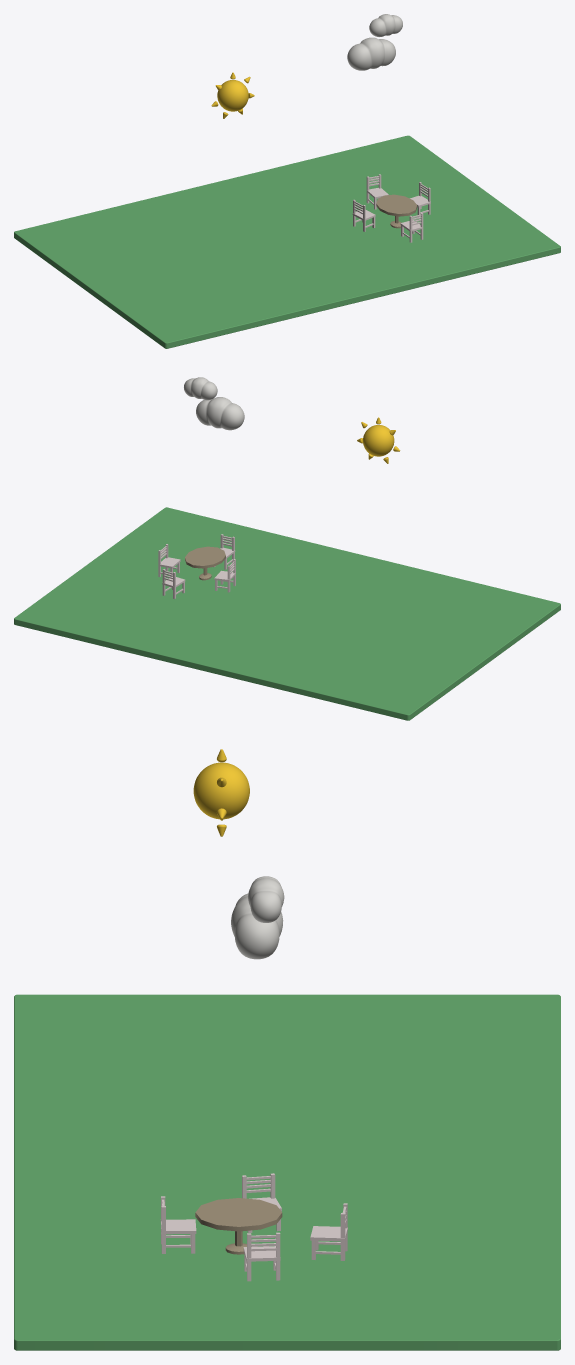
Rendered from house.gltf.
3 renders of one model, top to bottom at view 1: azimuth 30°, elevation 25°; view 2: azimuth 150°, elevation 25°; view 3: azimuth 270°, elevation 25°, orthographic. The views are drawn at different scales.
Parts seen in each view (by area): view 1: floor, Cloud, Merged Geometry 31 (×2), Merged Geometry 28, sun, Cloud 2; view 2: floor, Cloud, Merged Geometry 28, sun, Cloud 2; view 3: floor, Merged Geometry 28, sun, Merged Geometry 31 (×2), Cloud, Cloud 2, Merged Geometry 29, Merged Geometry 30.
Boxes of the visible parts, x1,y1,x2,y2 form: floor: (14,135,560,348); Cloud: (347,37,395,70); Merged Geometry 31 (×2): (366,174,423,242); Merged Geometry 28: (376,194,417,228); sun: (217,80,248,111); Cloud 2: (369,14,402,37); floor: (14,507,560,720); Cloud: (196,397,244,430); Merged Geometry 28: (185,546,225,580); sun: (363,425,394,456); Cloud 2: (184,377,217,400); floor: (14,994,560,1350); Merged Geometry 28: (195,1198,282,1254); sun: (193,762,249,819); Merged Geometry 31 (×2): (160,1196,347,1260); Cloud: (231,893,283,959); Cloud 2: (248,876,284,922); Merged Geometry 29: (243,1232,280,1281); Merged Geometry 30: (242,1173,281,1232).
Size of the model in its own units: 97.76 by 49.98 by 65.32.
